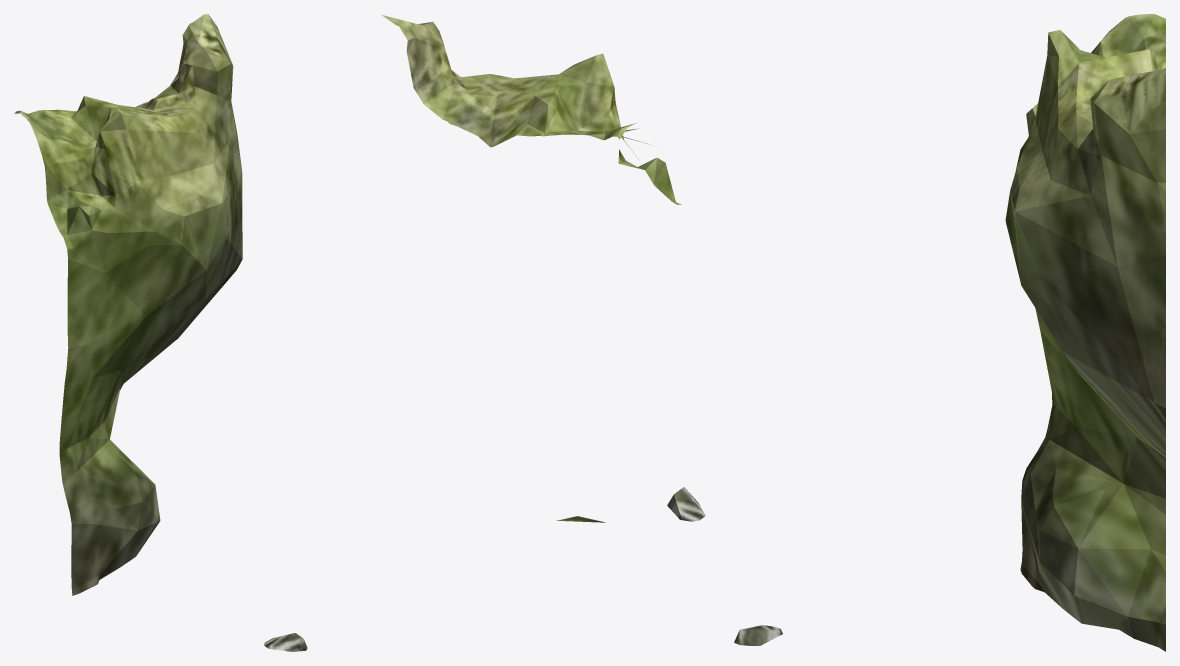
The picture shows the model from 3 angles, left to right: view 1: azimuth 30°, elevation 25°; view 2: azimuth 150°, elevation 25°; view 3: azimuth 270°, elevation 25°; orthographic projection. The views are drawn at different scales.
Bounding box in the file's own units: 1.27 × 2.65 × 1.68.
1 material, 1 textured.
